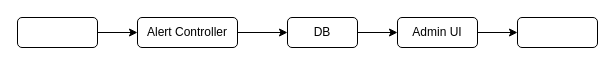
Some shapes in this 615 by 65 pixel diagram are drawn without their labels. Each missing label, with the centre of its shape:
"Citizen UI" goes at point 57,32.
"Responder UI" goes at point 557,32.
